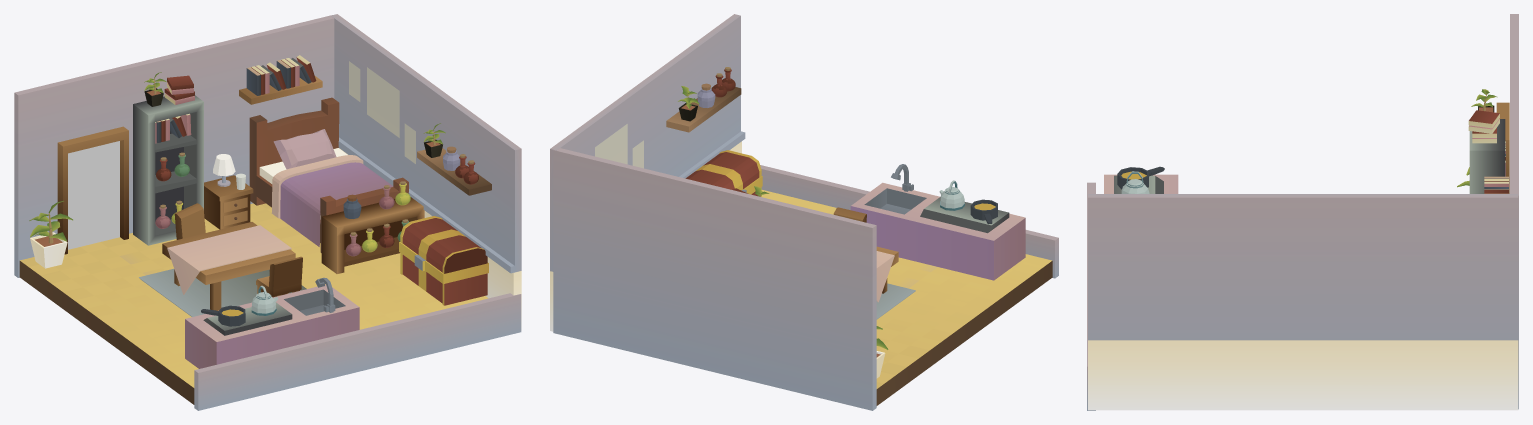
The model's file is bedroom.glb.
The picture shows the model from 3 angles, left to right: view 1: azimuth 30°, elevation 25°; view 2: azimuth 150°, elevation 25°; view 3: azimuth 270°, elevation 25°; orthographic projection. The views are drawn at different scales.
Parts seen in each view (by area): view 1: Plane, Cube, Plane.001, Plane.002, Cube.001, Plane.008, Plane.011, Plane.004, Cube.005, Cube.003, Plane.030, Plane.021 (+8 smaller); view 2: Plane, Plane.001, Cube, Cube.005, Plane.002, Plane.022, Plane.014, Cube.003, Plane.011, Plane.009, Plane.021; view 3: Plane.001, Plane, Plane.008, Plane.022, Plane.029, Cube.005, Plane.004, Plane.025.
Part boxes in pixels (bbox=[...]): Plane: bbox=[14, 15, 334, 277]; Cube: bbox=[19, 203, 488, 404]; Plane.001: bbox=[331, 14, 521, 330]; Plane.002: bbox=[194, 293, 521, 410]; Cube.001: bbox=[249, 97, 408, 252]; Plane.008: bbox=[133, 95, 203, 245]; Plane.011: bbox=[162, 203, 302, 310]; Plane.004: bbox=[57, 126, 128, 254]; Cube.005: bbox=[185, 277, 359, 368]; Cube.003: bbox=[399, 216, 488, 305]; Plane.030: bbox=[321, 181, 424, 273]; Plane.021: bbox=[139, 268, 306, 316]; Plane: bbox=[553, 148, 876, 410]; Plane.001: bbox=[550, 14, 745, 331]; Cube: bbox=[761, 190, 1052, 405]; Cube.005: bbox=[850, 164, 1025, 280]; Plane.002: bbox=[760, 165, 1058, 278]; Plane.022: bbox=[920, 180, 1009, 233]; Plane.014: bbox=[666, 67, 741, 132]; Cube.003: bbox=[685, 150, 762, 196]; Plane.011: bbox=[833, 207, 898, 302]; Plane.009: bbox=[595, 124, 627, 164]; Plane.021: bbox=[876, 283, 915, 319]; Plane.001: bbox=[1088, 194, 1518, 410]; Plane: bbox=[1510, 14, 1518, 409]; Plane.008: bbox=[1469, 119, 1505, 193]; Plane.022: bbox=[1114, 166, 1164, 193]; Plane.029: bbox=[1468, 110, 1499, 133]; Cube.005: bbox=[1104, 174, 1178, 193]; Plane.004: bbox=[1496, 102, 1509, 193]; Plane.025: bbox=[1484, 176, 1508, 193].
Size of the model in its own units: 3.4 by 1.87 by 3.36.
Materials: 2 (1 with a texture image).
